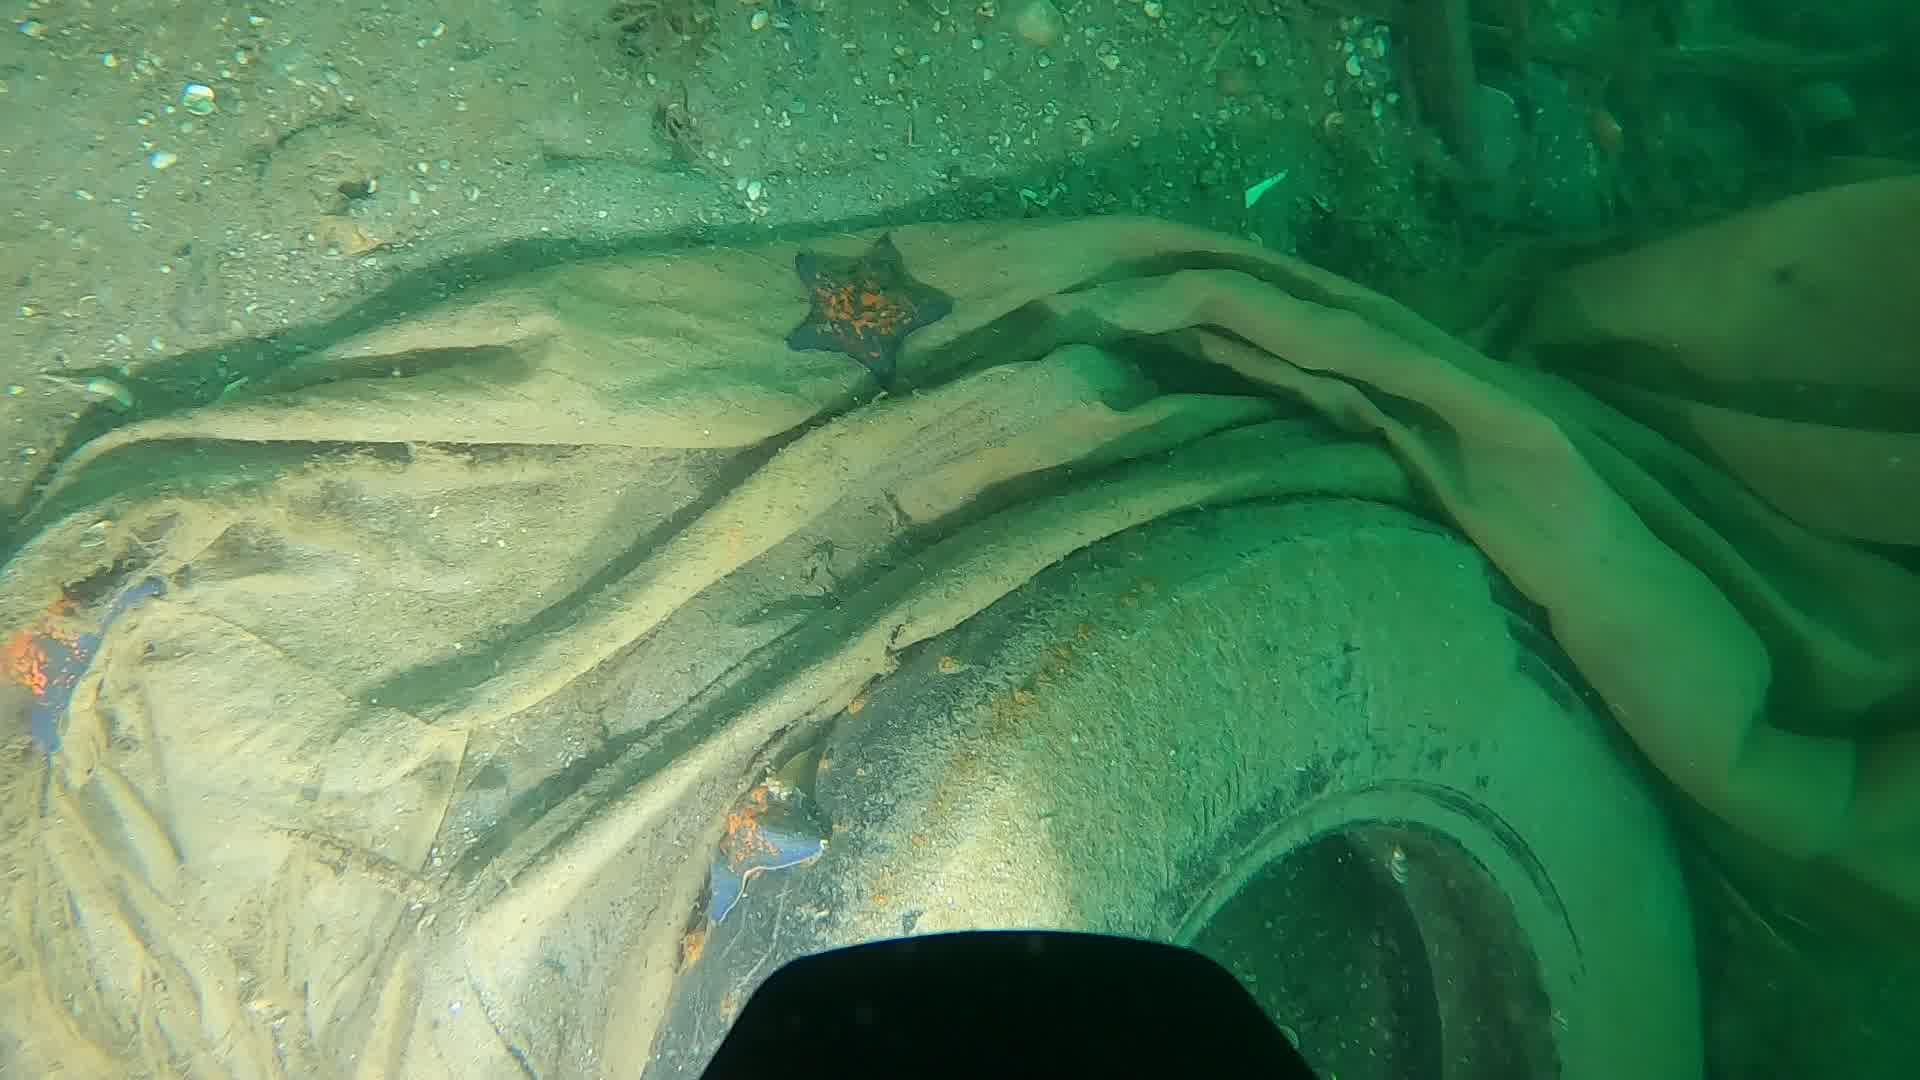tire: (637, 495, 1708, 1080)
